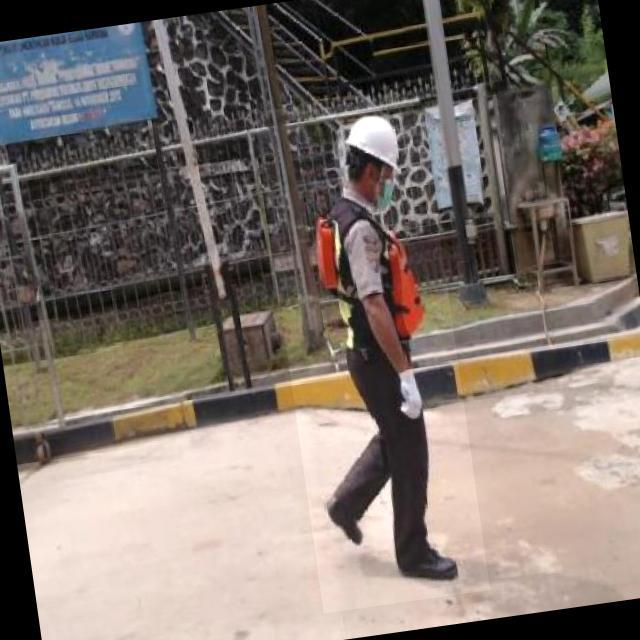Helmet: (341, 107, 407, 180)
Human: (254, 89, 491, 613)
Safety Boot: (390, 535, 461, 588), (322, 488, 367, 557)
Safety Vest: (308, 197, 437, 368)
